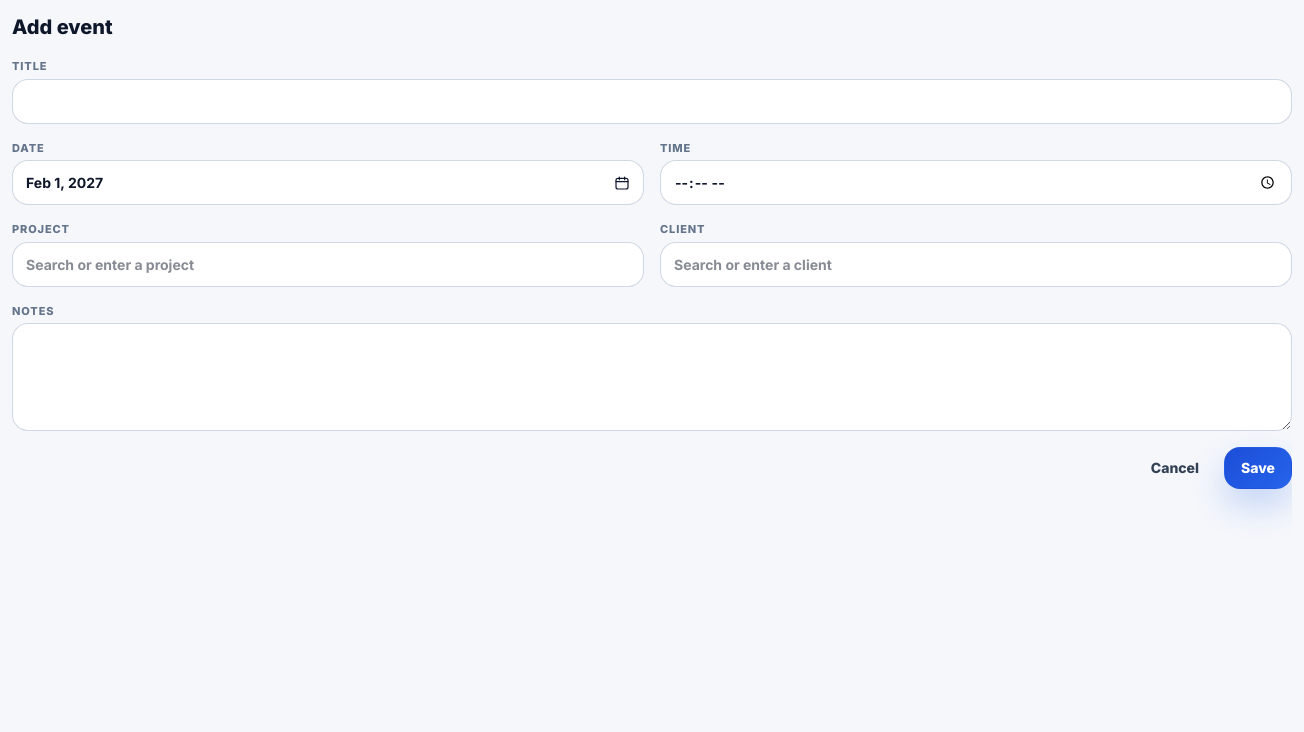
Test: CalendarEventForm — create request body › keeps the dialog open, preserves values, and shows an inline error on save failure
Step 1. Type "Team sync" into the field labelled "Title" → (652, 101), box [12,78,1292,124]
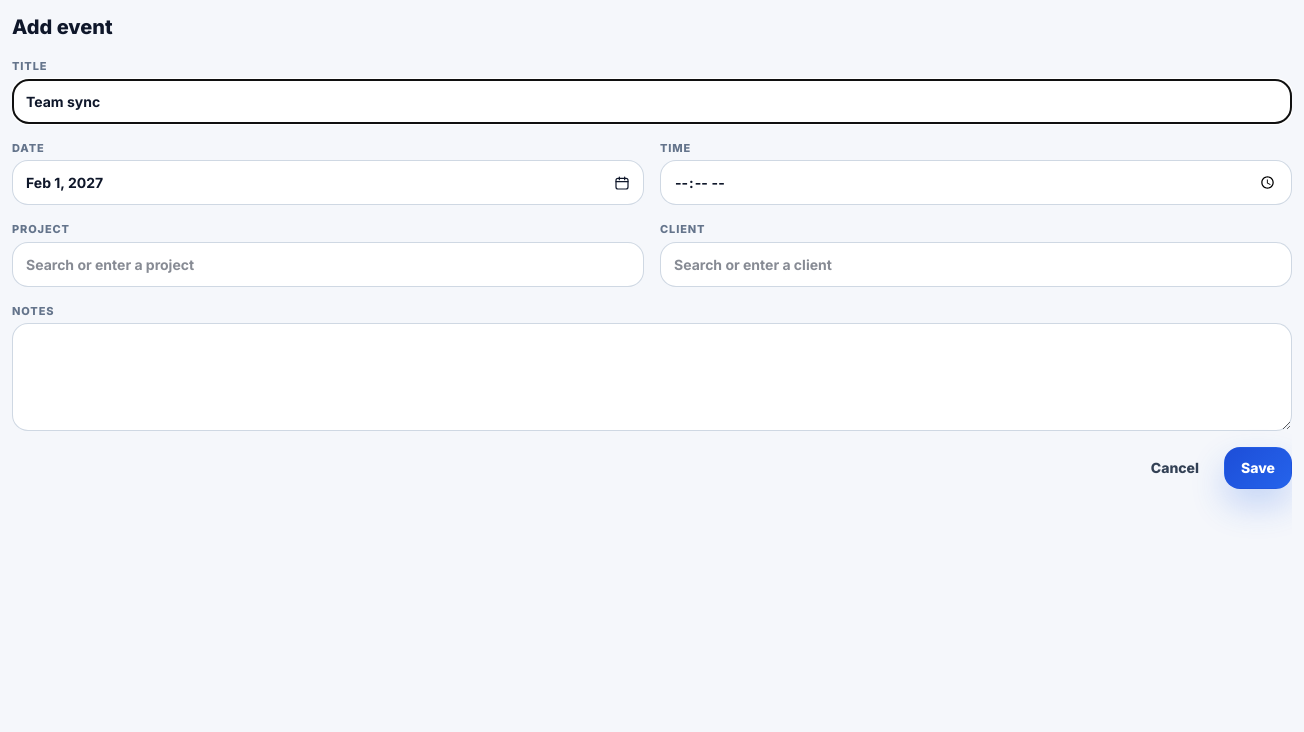
Step 2. Click the button "Save" → (1258, 468), box [1224,447,1292,489]
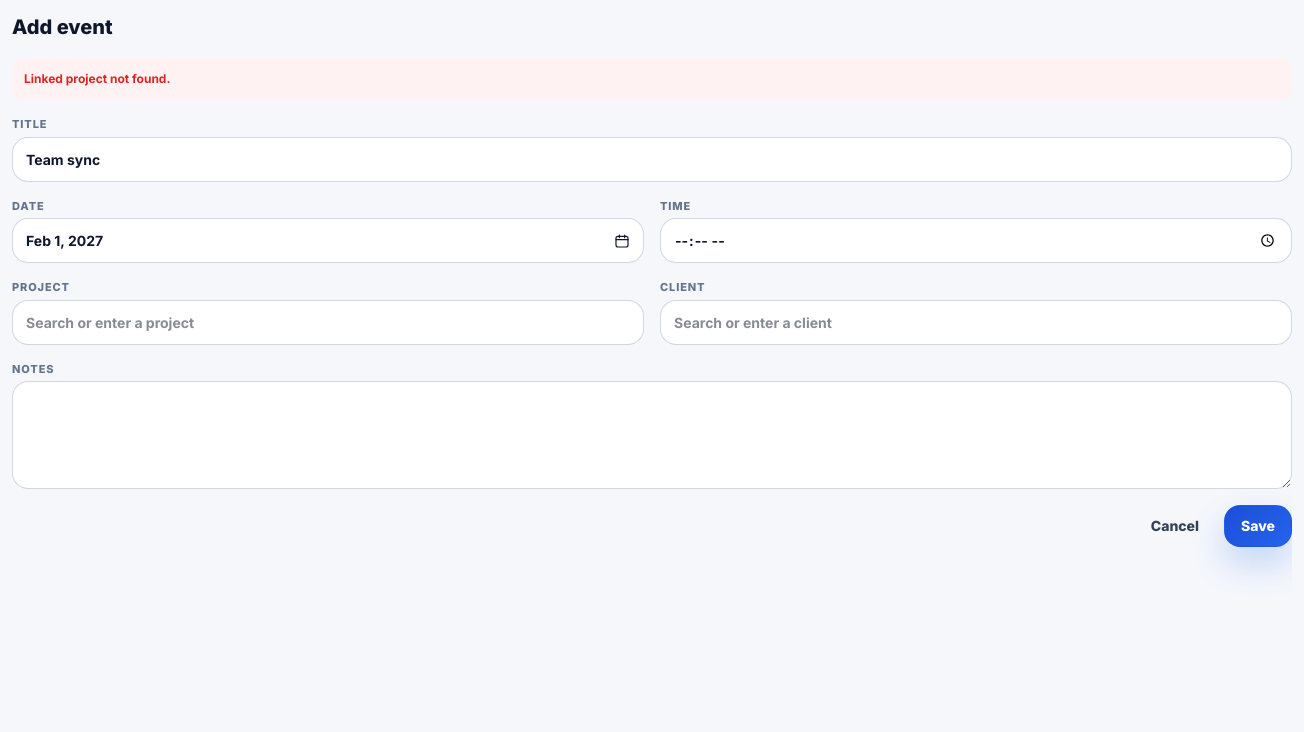
Check: the text "Linked project not found." is shown, box [12,58,1292,100]
